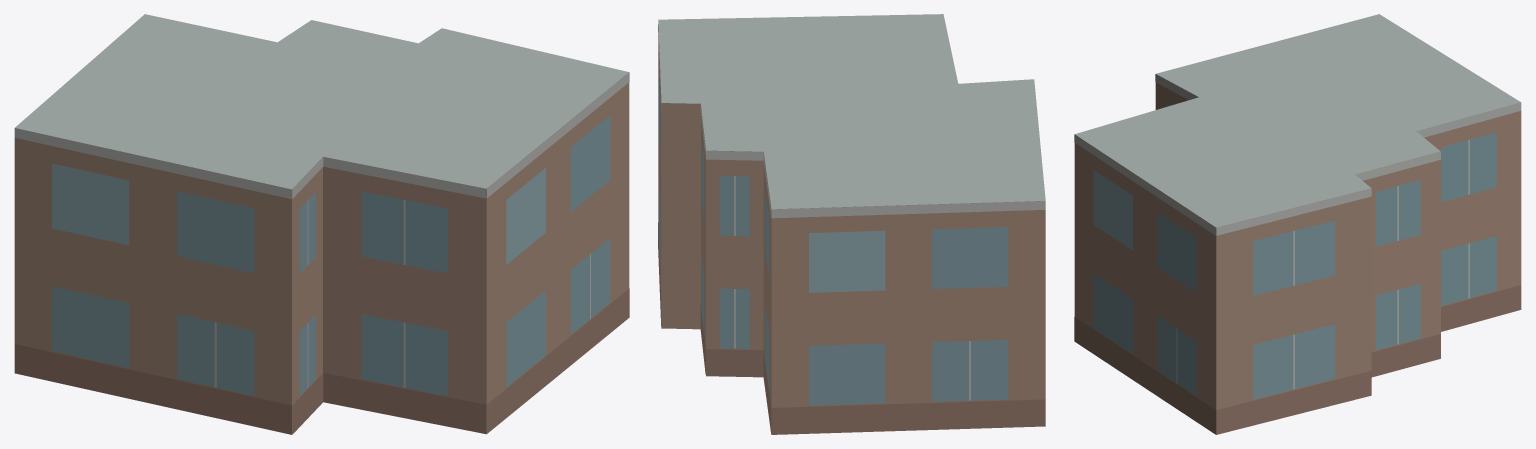
Rendered from survey-upis-32604427.glb.
3 renders of one model, left to right at view 1: azimuth 30°, elevation 25°; view 2: azimuth 150°, elevation 25°; view 3: azimuth 270°, elevation 25°, orthographic. The views are drawn at different scales.
Parts seen in each view (by area): view 1: survey-upis-32604427.tmp; view 2: survey-upis-32604427.tmp; view 3: survey-upis-32604427.tmp.
Part boxes in pixels (box(x1,y1,x2,y2)): survey-upis-32604427.tmp: box(14, 14, 629, 434); survey-upis-32604427.tmp: box(658, 14, 1045, 434); survey-upis-32604427.tmp: box(1074, 14, 1521, 434).
Size of the model in its own units: 13.49 by 6.1 by 11.93.
